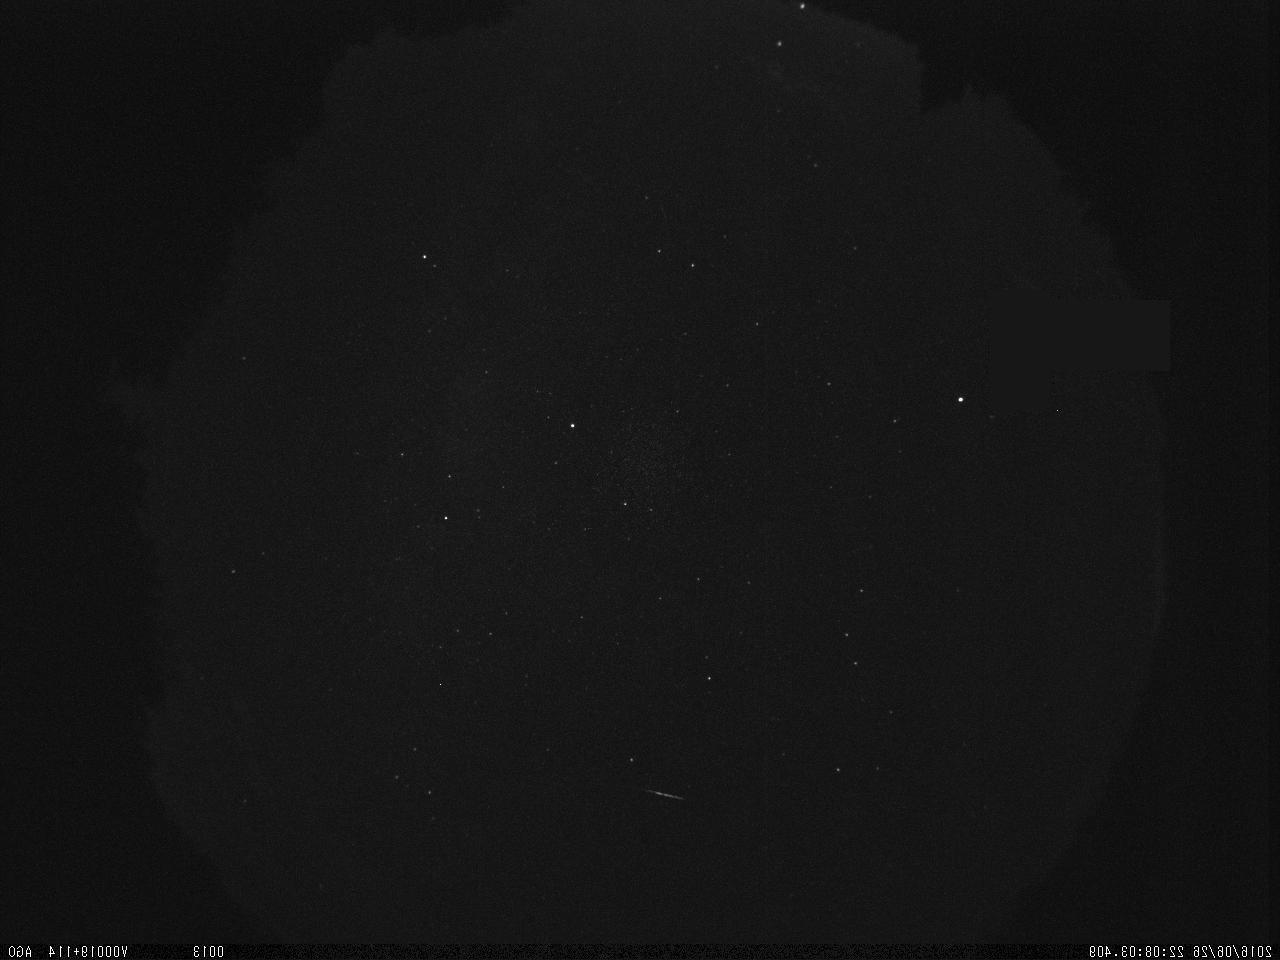meteor: (632, 783, 690, 805)
